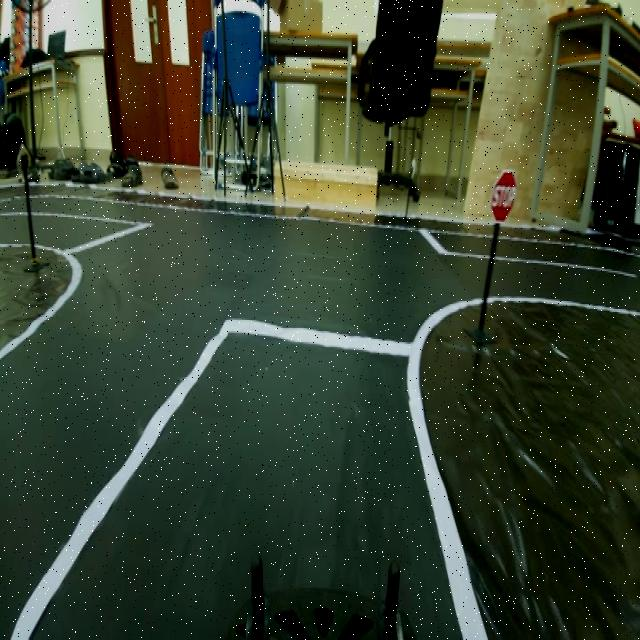stop: (487, 165, 527, 228)
